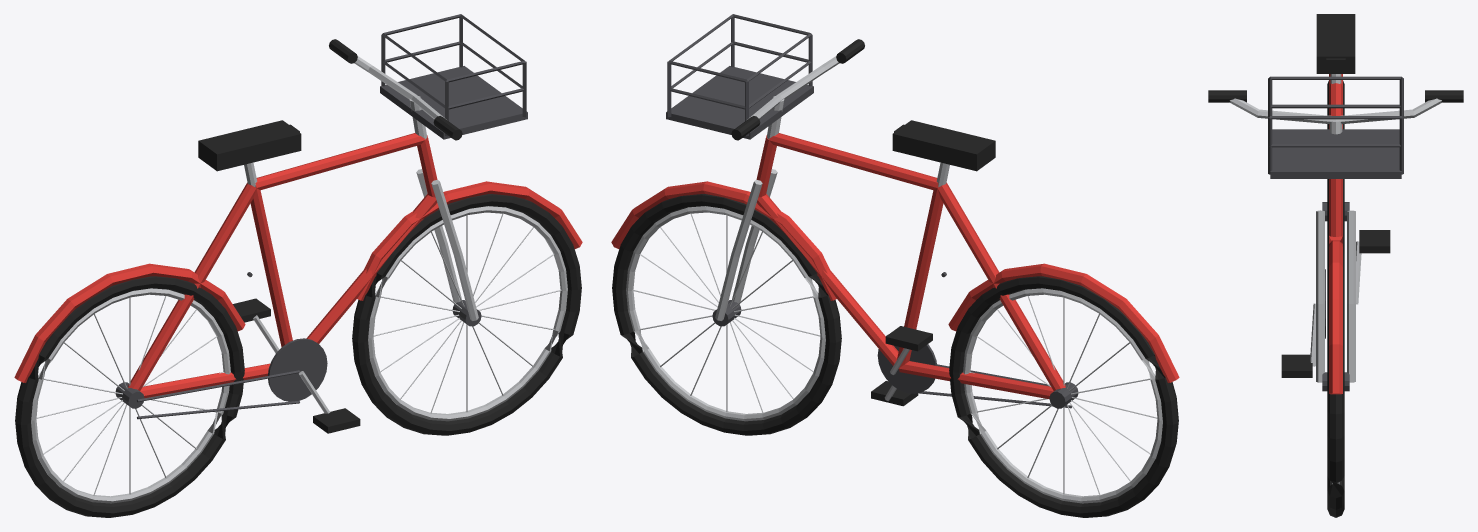
File: SM_Prop_Bike.fbx
The picture shows the model from 3 angles, left to right: view 1: azimuth 30°, elevation 25°; view 2: azimuth 150°, elevation 25°; view 3: azimuth 270°, elevation 25°; orthographic projection. The views are drawn at different scales.
Parts seen in each view (by area): view 1: SM_Prop_Bike; view 2: SM_Prop_Bike; view 3: SM_Prop_Bike.
Boxes of the visible parts, <box> form: SM_Prop_Bike: <box>14,14,582,517</box>; SM_Prop_Bike: <box>611,14,1179,517</box>; SM_Prop_Bike: <box>1208,14,1463,517</box>.
Bounding box in the file's own units: 0.66 × 1.74 × 1.15.
